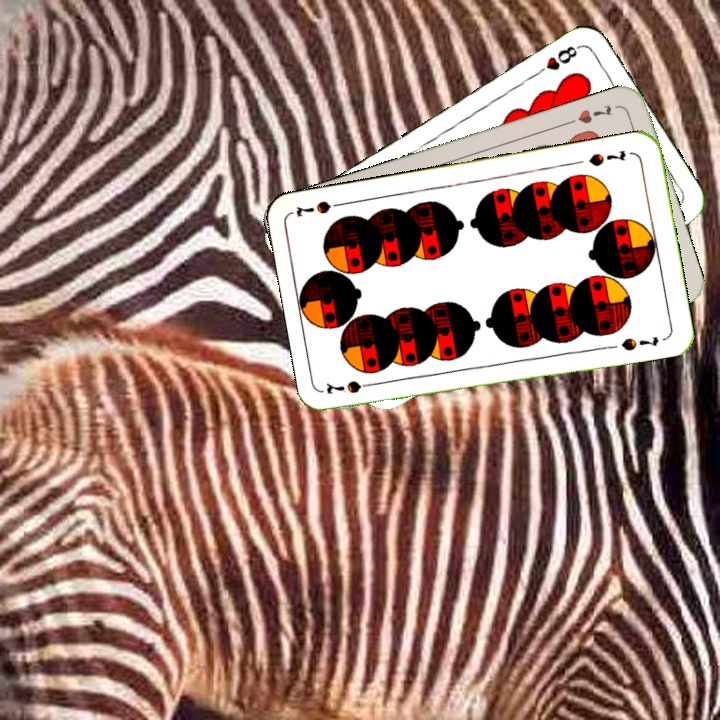H7: (563, 100, 616, 128)
H8: (530, 41, 583, 79)
S7: (322, 376, 382, 397), (585, 145, 629, 169)
